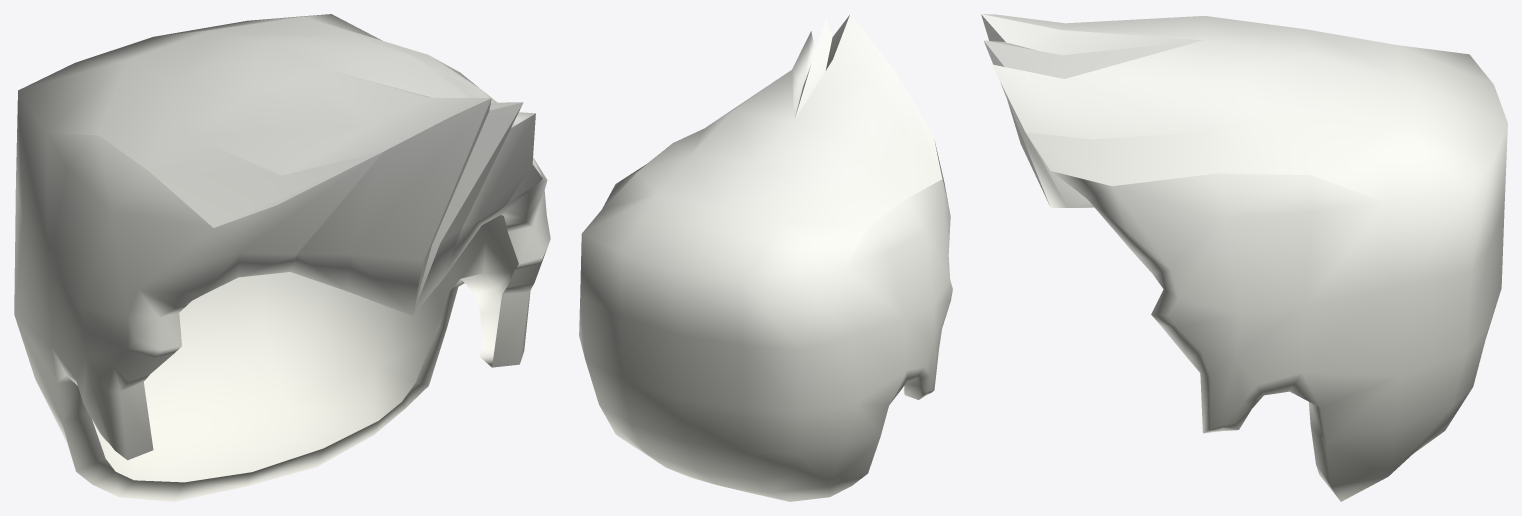
The model's file is Hair_White_3.fbx.
3 renders of one model, left to right at view 1: azimuth 30°, elevation 25°; view 2: azimuth 150°, elevation 25°; view 3: azimuth 270°, elevation 25°, orthographic. The views are drawn at different scales.
Visible parts, largest first — view 1: Hair_White_3; view 2: Hair_White_3; view 3: Hair_White_3.
Part boxes in pixels (left/top/right/bottom): Hair_White_3: left=14, top=14, right=550, bottom=501; Hair_White_3: left=579, top=14, right=952, bottom=501; Hair_White_3: left=981, top=14, right=1507, bottom=501.
Bounding box in the file's own units: 53.25 × 60.55 × 61.45.
